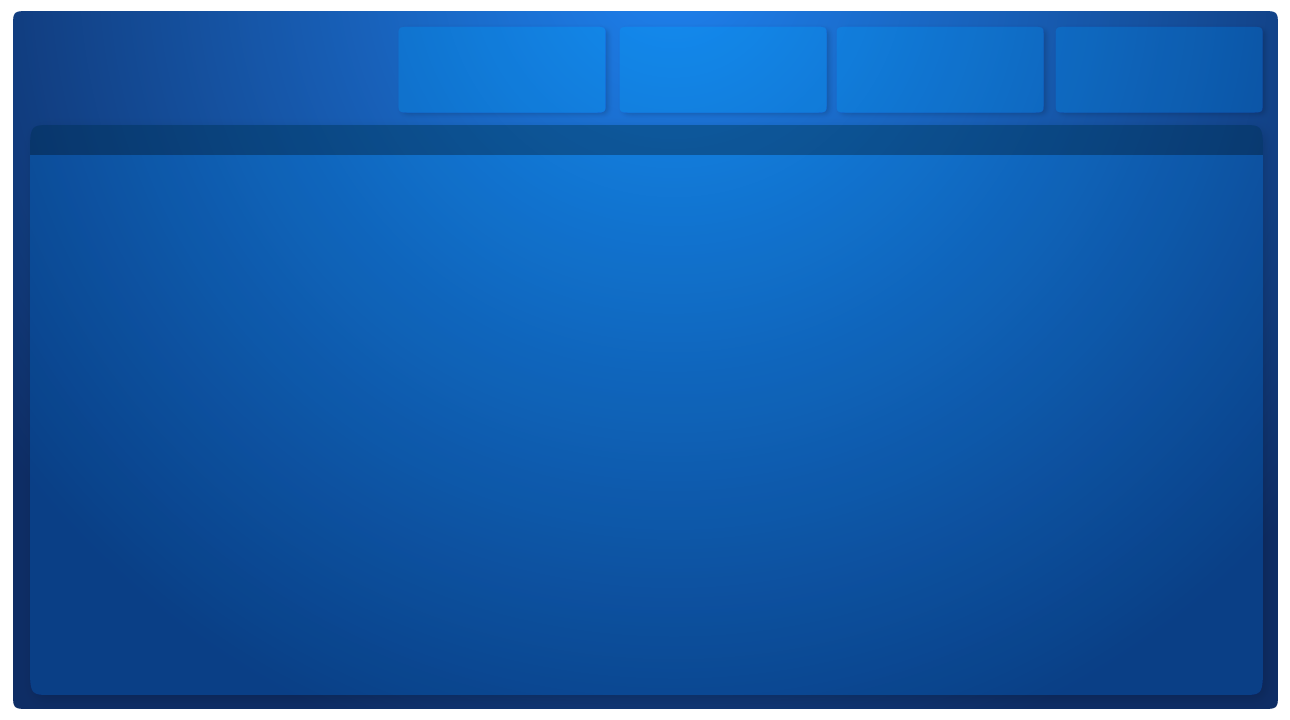

What the dashboard file says about the page in this screenshot:
{"tool":"powerbi","page":{"name":"Página 1","canvas":[1290,720],"ordinal":0},"visuals":[{"type":"simpleImageEBC4593F96F1425FB3D84C5BF02B5075","fields":{"imageURL":["tObras.ObraURL"]},"box":[36.3,170.6,340.1,509.7],"z":0},{"type":"slicer","fields":{"Values":["tObras.ObraNome"]},"box":[402.9,28.4,200.9,78.4],"z":1},{"type":"card","fields":{"Values":["Min(tObras.ObraNome)"]},"box":[85.3,120.6,280.3,42.2],"z":2},{"type":"image","box":[47.1,120.6,79.4,42.2],"z":3},{"type":"clusteredColumnChart","fields":{"Category":["tCalendario.Nome Mês"],"Y":["Sum(tObrasConsolidadas.Custo Planejado)","Sum(tObrasConsolidadas.Custo Real)"]},"box":[402.9,170.6,853.8,224.5],"z":4},{"type":"textbox","box":[474.4,120.6,251.9,42.2],"z":5},{"type":"image","box":[417.6,120.6,67.6,42.2],"z":6},{"type":"lineClusteredColumnComboChart","fields":{"Category":["tCalendario.Nome Mês"],"Y":["Medidas.Soma Planejado","Medidas.Soma Real"],"Y2":["Medidas.Soma Acum. Plan","Medidas.Soma Acum. Real"]},"box":[402.9,458.8,853.8,228.4],"z":7},{"type":"textbox","box":[474.4,410.7,251.9,42.2],"z":8},{"type":"image","box":[417.6,410.7,56.9,42.2],"z":9}]}

Visuals, with their boxes on the page's 1290x720 design canvas (x1, y1, x2, y2). These are canvas units, not pixel positions in the 1290x720 screenshot, which may show the page scaled, cropped or inside an application window:
simpleImageEBC4593F96F1425FB3D84C5BF02B5075 - tObras.ObraURL: x1=36 y1=171 x2=376 y2=680
slicer - tObras.ObraNome: x1=403 y1=28 x2=604 y2=107
card - Min(tObras.ObraNome): x1=85 y1=121 x2=366 y2=163
image: x1=47 y1=121 x2=126 y2=163
clusteredColumnChart - tCalendario.Nome Mês x Sum(tObrasConsolidadas.Custo Planejado): x1=403 y1=171 x2=1257 y2=395
textbox: x1=474 y1=121 x2=726 y2=163
image: x1=418 y1=121 x2=485 y2=163
lineClusteredColumnComboChart - tCalendario.Nome Mês x Medidas.Soma Planejado: x1=403 y1=459 x2=1257 y2=687
textbox: x1=474 y1=411 x2=726 y2=453
image: x1=418 y1=411 x2=474 y2=453
